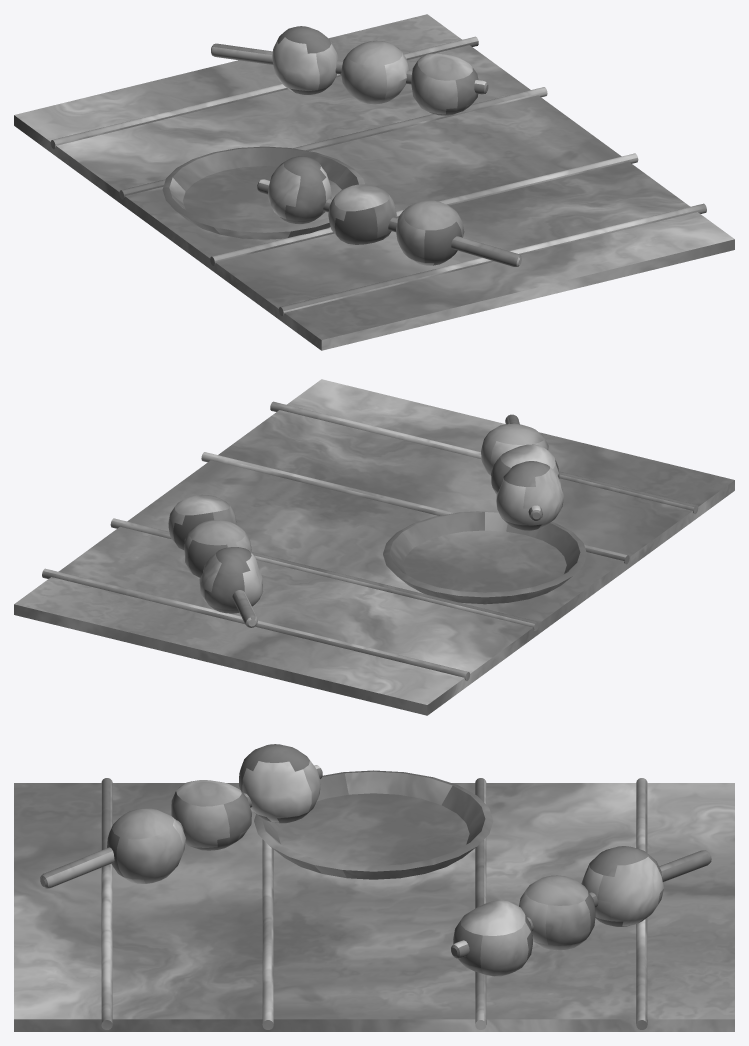
The model's file is SM_food_02.fbx.
3 renders of one model, top to bottom at view 1: azimuth 30°, elevation 25°; view 2: azimuth 150°, elevation 25°; view 3: azimuth 270°, elevation 25°, orthographic. The views are drawn at different scales.
Parts seen in each view (by area): view 1: SM_food_02; view 2: SM_food_02; view 3: SM_food_02.
Boxes of the visible parts, x1=… form: SM_food_02: x1=14, y1=14, x2=734, y2=350; SM_food_02: x1=14, y1=379, x2=734, y2=715; SM_food_02: x1=14, y1=744, x2=734, y2=1031.
Size of the model in its own units: 20.17 by 25.38 by 3.92.
Materials: 1 (1 with a texture image).
